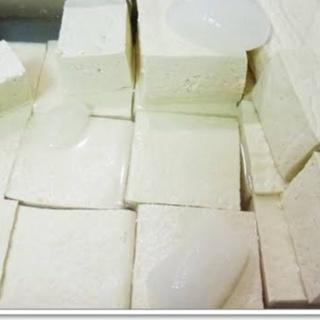Tahu: (127, 195, 271, 313), (17, 100, 132, 213)
